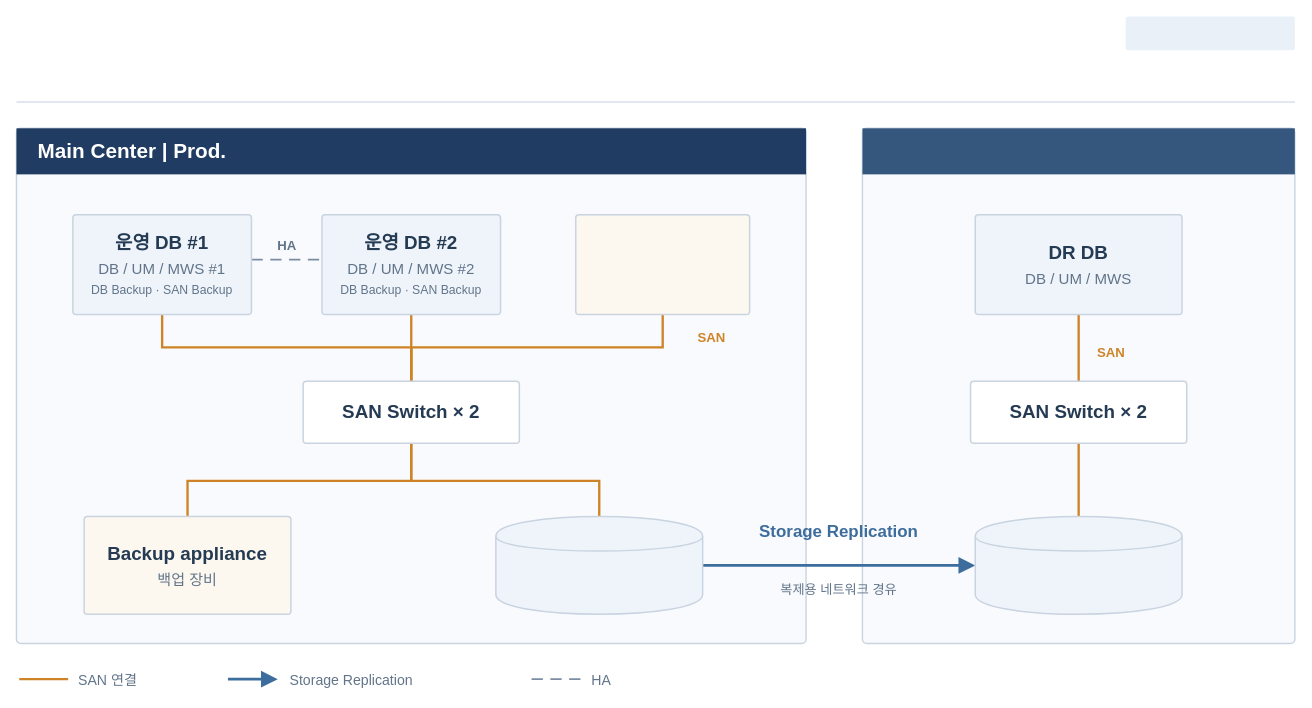
Some shapes in this 1312 by 708 pixel diagram are drawn without their labels. Each missing label, with the centre of its shape:
Backup 서버 SAN Backup: the point at 662,264
DR Center: the point at 1078,151
SAN Storage (DR): the point at 1078,565
SAN Storage (Prod.): the point at 599,565
